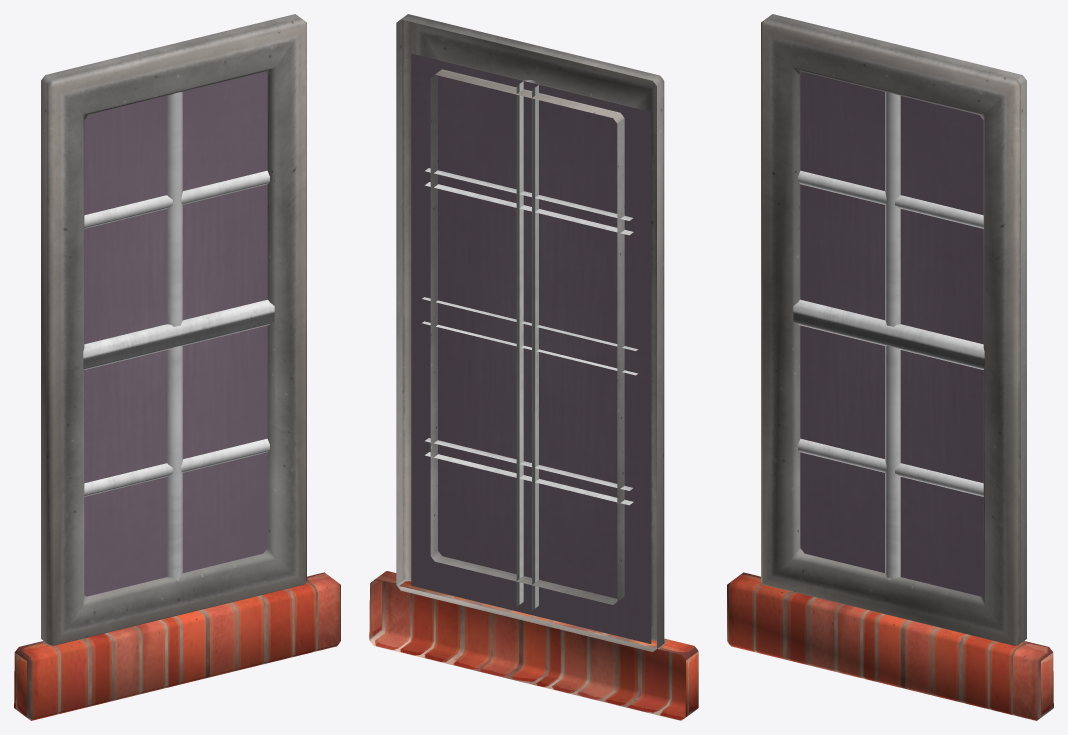
File: SM_Window_02a.fbx
3 views of the same model, side by side, from view 1: azimuth 30°, elevation 25°; view 2: azimuth 150°, elevation 25°; view 3: azimuth 330°, elevation 25° (orthographic).
Parts seen in each view (by area): view 1: SM_Window_02a; view 2: SM_Window_02a; view 3: SM_Window_02a.
Boxes of the visible parts, x1,y1,x2,y2 form: SM_Window_02a: (14,14,340,720); SM_Window_02a: (369,14,698,720); SM_Window_02a: (727,14,1053,720).
Bounding box in the file's own units: 104 × 10.89 × 200.
